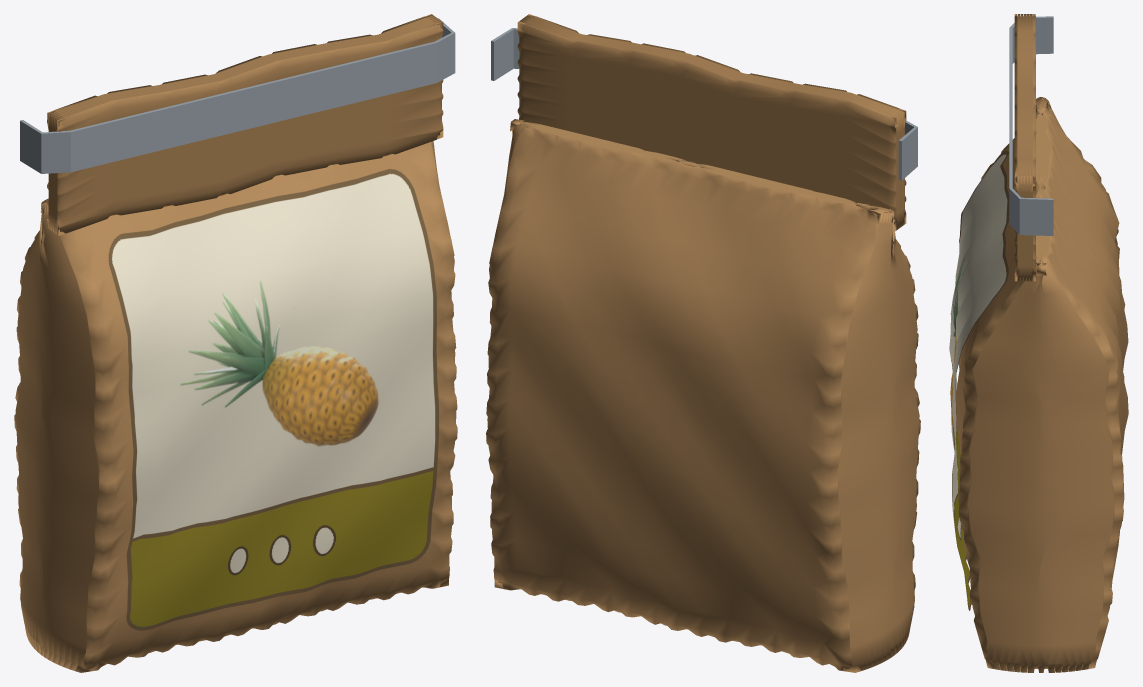
The model's file is pineapple_seed.glb.
3 renders of one model, left to right at view 1: azimuth 30°, elevation 25°; view 2: azimuth 150°, elevation 25°; view 3: azimuth 270°, elevation 25°, orthographic. The views are drawn at different scales.
Visible parts, largest first — view 1: PineappleSeed_Label, PineappleSeed_Body, PineappleSeed_Fold, PineappleSeed_Tie; view 2: PineappleSeed_Body, PineappleSeed_Fold, PineappleSeed_Tie; view 3: PineappleSeed_Body, PineappleSeed_Label, PineappleSeed_Fold, PineappleSeed_Tie.
Part boxes in pixels (box(x1,y1,x2,y2)): PineappleSeed_Label: box(108, 169, 438, 630); PineappleSeed_Body: box(14, 141, 457, 672); PineappleSeed_Fold: box(47, 14, 443, 235); PineappleSeed_Tie: box(20, 18, 455, 173); PineappleSeed_Body: box(486, 119, 920, 672); PineappleSeed_Fold: box(517, 14, 906, 231); PineappleSeed_Tie: box(491, 28, 917, 180); PineappleSeed_Body: box(956, 97, 1128, 672); PineappleSeed_Label: box(949, 150, 1009, 610); PineappleSeed_Fold: box(1014, 14, 1035, 281); PineappleSeed_Tie: box(1009, 16, 1053, 235).
Size of the model in its own units: 0.0917 by 0.1152 by 0.0378.
Materials: 4 (1 with a texture image).
